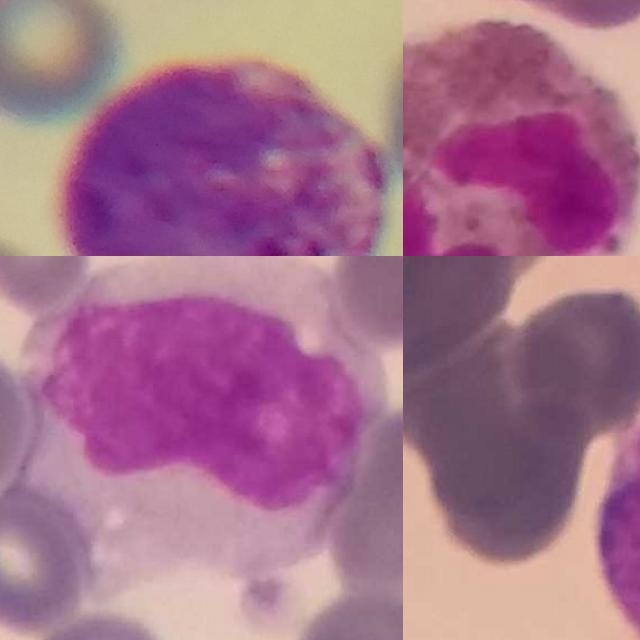Basophil: (64, 56, 389, 256)
Eosinophil: (403, 15, 640, 256)
Monocyte: (32, 256, 382, 590)
